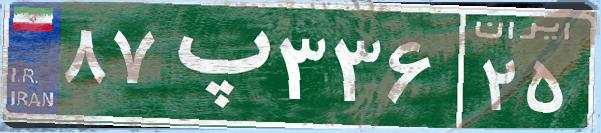2: (475, 38, 525, 113)
3: (273, 28, 330, 110), (330, 28, 385, 110)
5: (525, 38, 570, 115)
6: (385, 28, 445, 110)
7: (110, 28, 158, 105)
8: (57, 26, 110, 107)
پ: (158, 15, 273, 115)
